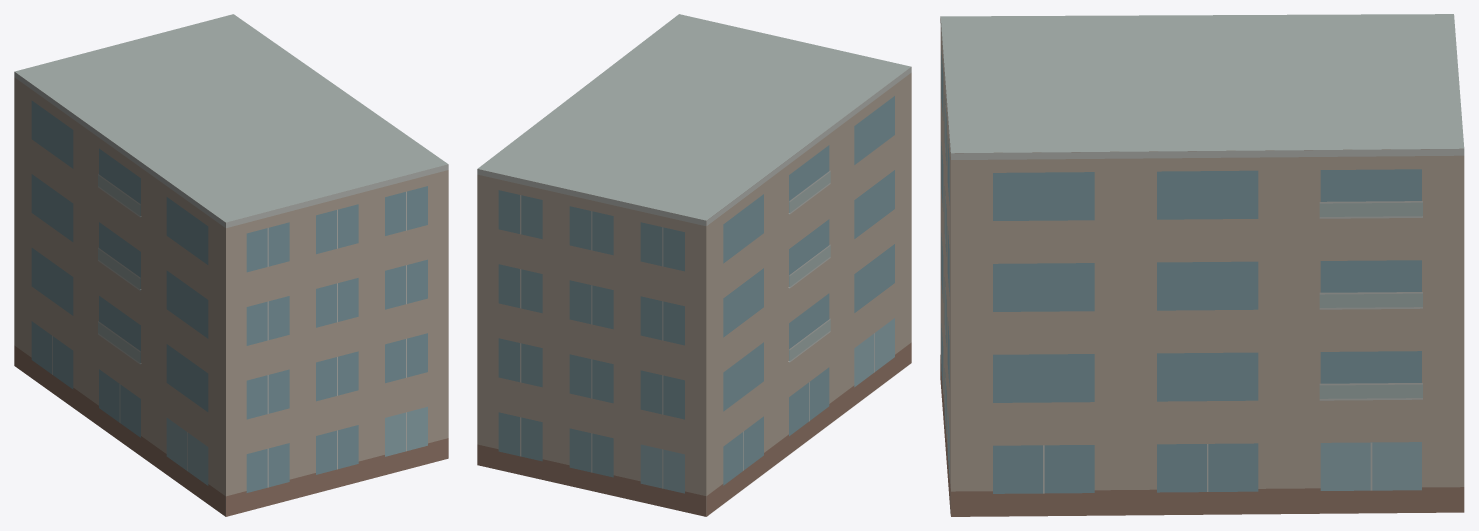
The model's file is survey-upis-32760795.glb.
3 views of the same model, side by side, from view 1: azimuth 30°, elevation 25°; view 2: azimuth 150°, elevation 25°; view 3: azimuth 270°, elevation 25° (orthographic). The views are drawn at different scales.
Visible parts, largest first — view 1: survey-upis-32760795.tmp; view 2: survey-upis-32760795.tmp; view 3: survey-upis-32760795.tmp.
Part boxes in pixels (box(x1,y1,x2,y2)): survey-upis-32760795.tmp: box(14, 14, 448, 516); survey-upis-32760795.tmp: box(477, 14, 911, 516); survey-upis-32760795.tmp: box(940, 14, 1464, 516).
Bounding box in the file's own units: 10.43 × 12.7 × 16.58.
